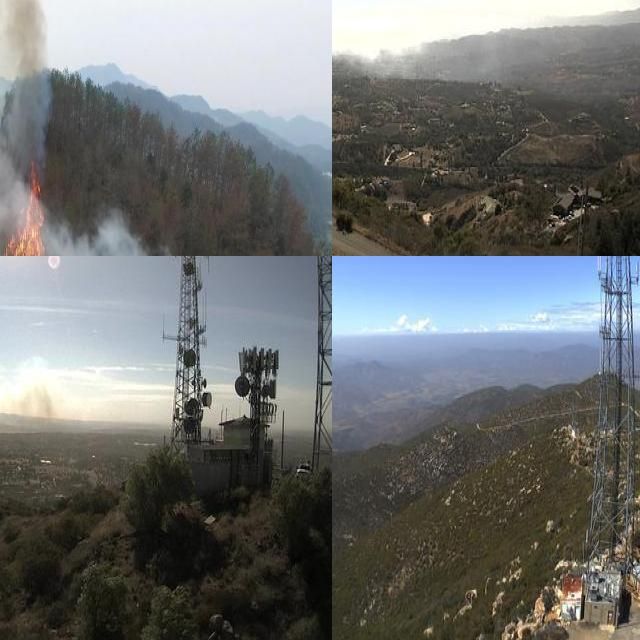fire: (0, 144, 77, 256)
smoke: (0, 0, 192, 256), (332, 17, 436, 76), (0, 350, 73, 422)
